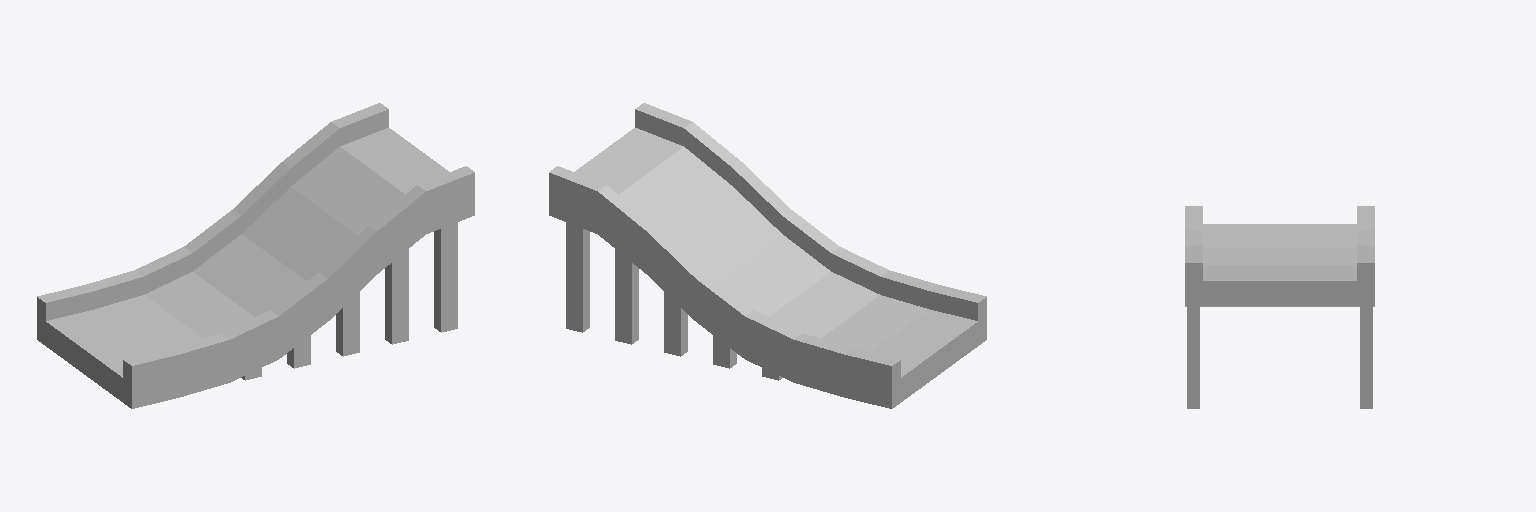
The model's file is bridgestart.obj.
3 renders of one model, left to right at view 1: azimuth 30°, elevation 25°; view 2: azimuth 150°, elevation 25°; view 3: azimuth 270°, elevation 25°, orthographic.
Parts seen in each view (by area): view 1: pCube9; view 2: pCube9; view 3: pCube9.
Boxes of the visible parts, <box> form: pCube9: <box>37,103,474,408</box>; pCube9: <box>549,103,986,408</box>; pCube9: <box>1185,206,1374,408</box>.
Size of the model in its own units: 2.5 by 1.07 by 1.2.